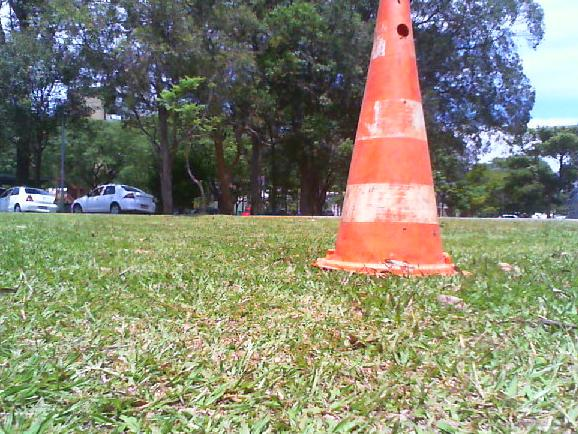0 cone: (319, 0, 455, 276)
